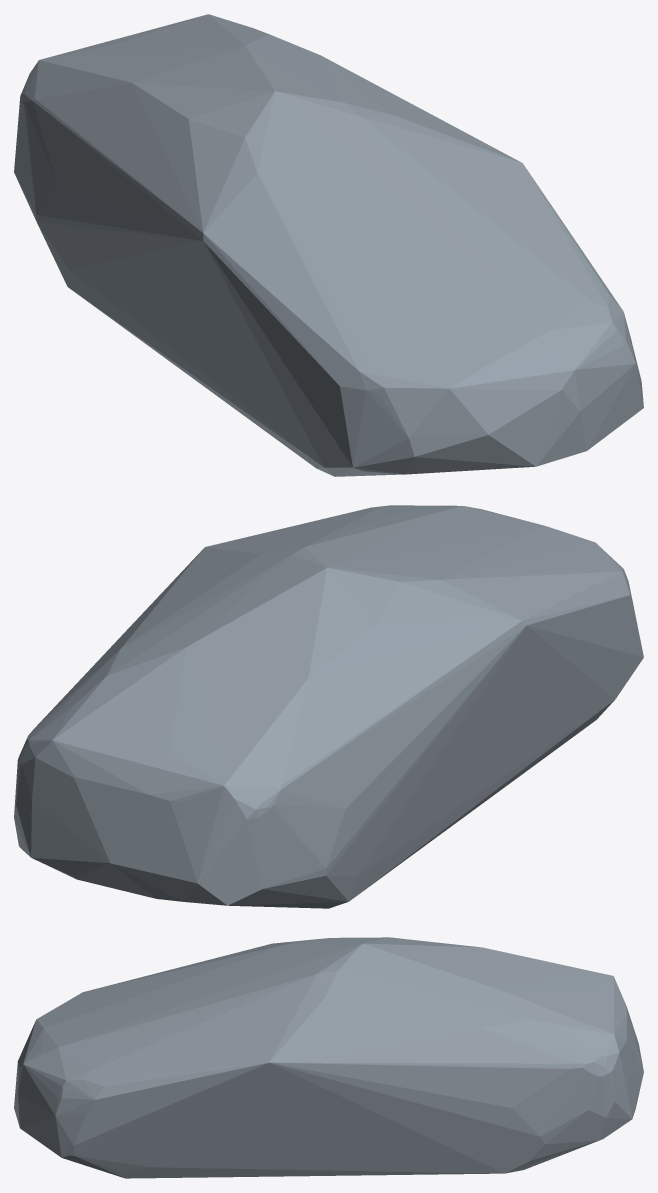
Rendered from bmw-m4-csl-collision.glb.
The picture shows the model from 3 angles, top to bottom: view 1: azimuth 30°, elevation 25°; view 2: azimuth 150°, elevation 25°; view 3: azimuth 270°, elevation 25°; orthographic projection. The views are drawn at different scales.
Visible parts, largest first — view 1: bmw-m4-csl_collision; view 2: bmw-m4-csl_collision; view 3: bmw-m4-csl_collision.
Part boxes in pixels (bbox=[...]): bmw-m4-csl_collision: bbox=[14, 14, 643, 476]; bmw-m4-csl_collision: bbox=[14, 505, 643, 908]; bmw-m4-csl_collision: bbox=[14, 937, 643, 1178].
Size of the model in its own units: 2.08 by 1.5 by 4.8.
